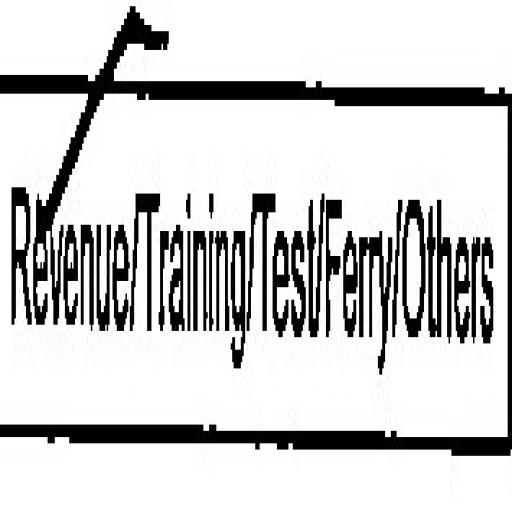check: (0, 0, 133, 476)
